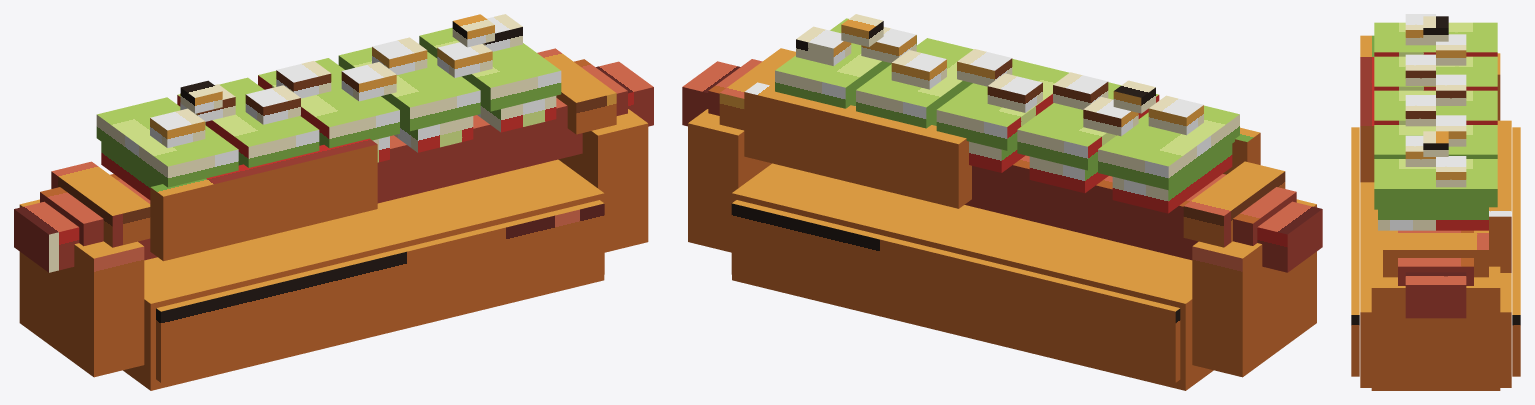
The model's file is completo.gltf.
3 renders of one model, left to right at view 1: azimuth 30°, elevation 25°; view 2: azimuth 150°, elevation 25°; view 3: azimuth 270°, elevation 25°, orthographic. The views are drawn at different scales.
Visible parts, largest first — view 1: bun, avocado, sausage, mayo, tomato; view 2: bun, avocado, sausage, mayo, tomato; view 3: bun, avocado, mayo, sausage, tomato.
Part boxes in pixels (<box>): bun: <box>19,48,648,390</box>; avocado: <box>96,27,561,187</box>; sausage: <box>14,59,653,272</box>; mayo: <box>150,14,522,147</box>; tomato: <box>101,96,556,199</box>; bun: <box>688,48,1316,390</box>; avocado: <box>775,18,1239,190</box>; sausage: <box>682,59,1322,272</box>; mayo: <box>796,14,1203,136</box>; tomato: <box>854,104,1232,213</box>; bun: <box>1351,35,1520,390</box>; avocado: <box>1374,22,1497,209</box>; mayo: <box>1405,14,1466,187</box>; sausage: <box>1398,230,1473,318</box>; tomato: <box>1378,209,1488,230</box>.
Size of the model in its own units: 1.5 by 0.5844 by 0.4187.
Materials: 1 (1 with a texture image).
